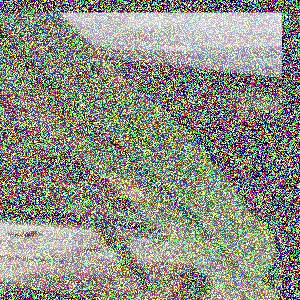Brown_Spot: (78, 42, 141, 110), (94, 170, 164, 218), (3, 83, 66, 136), (143, 216, 188, 251)
